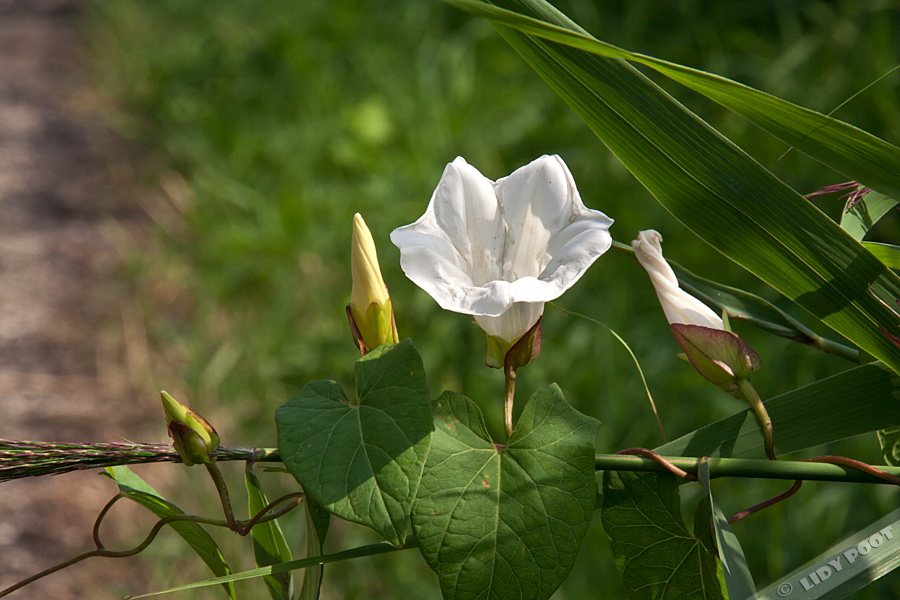haagwinde: (263, 337, 602, 600), (386, 144, 625, 376), (626, 221, 761, 407), (324, 198, 408, 361), (140, 375, 235, 481)
